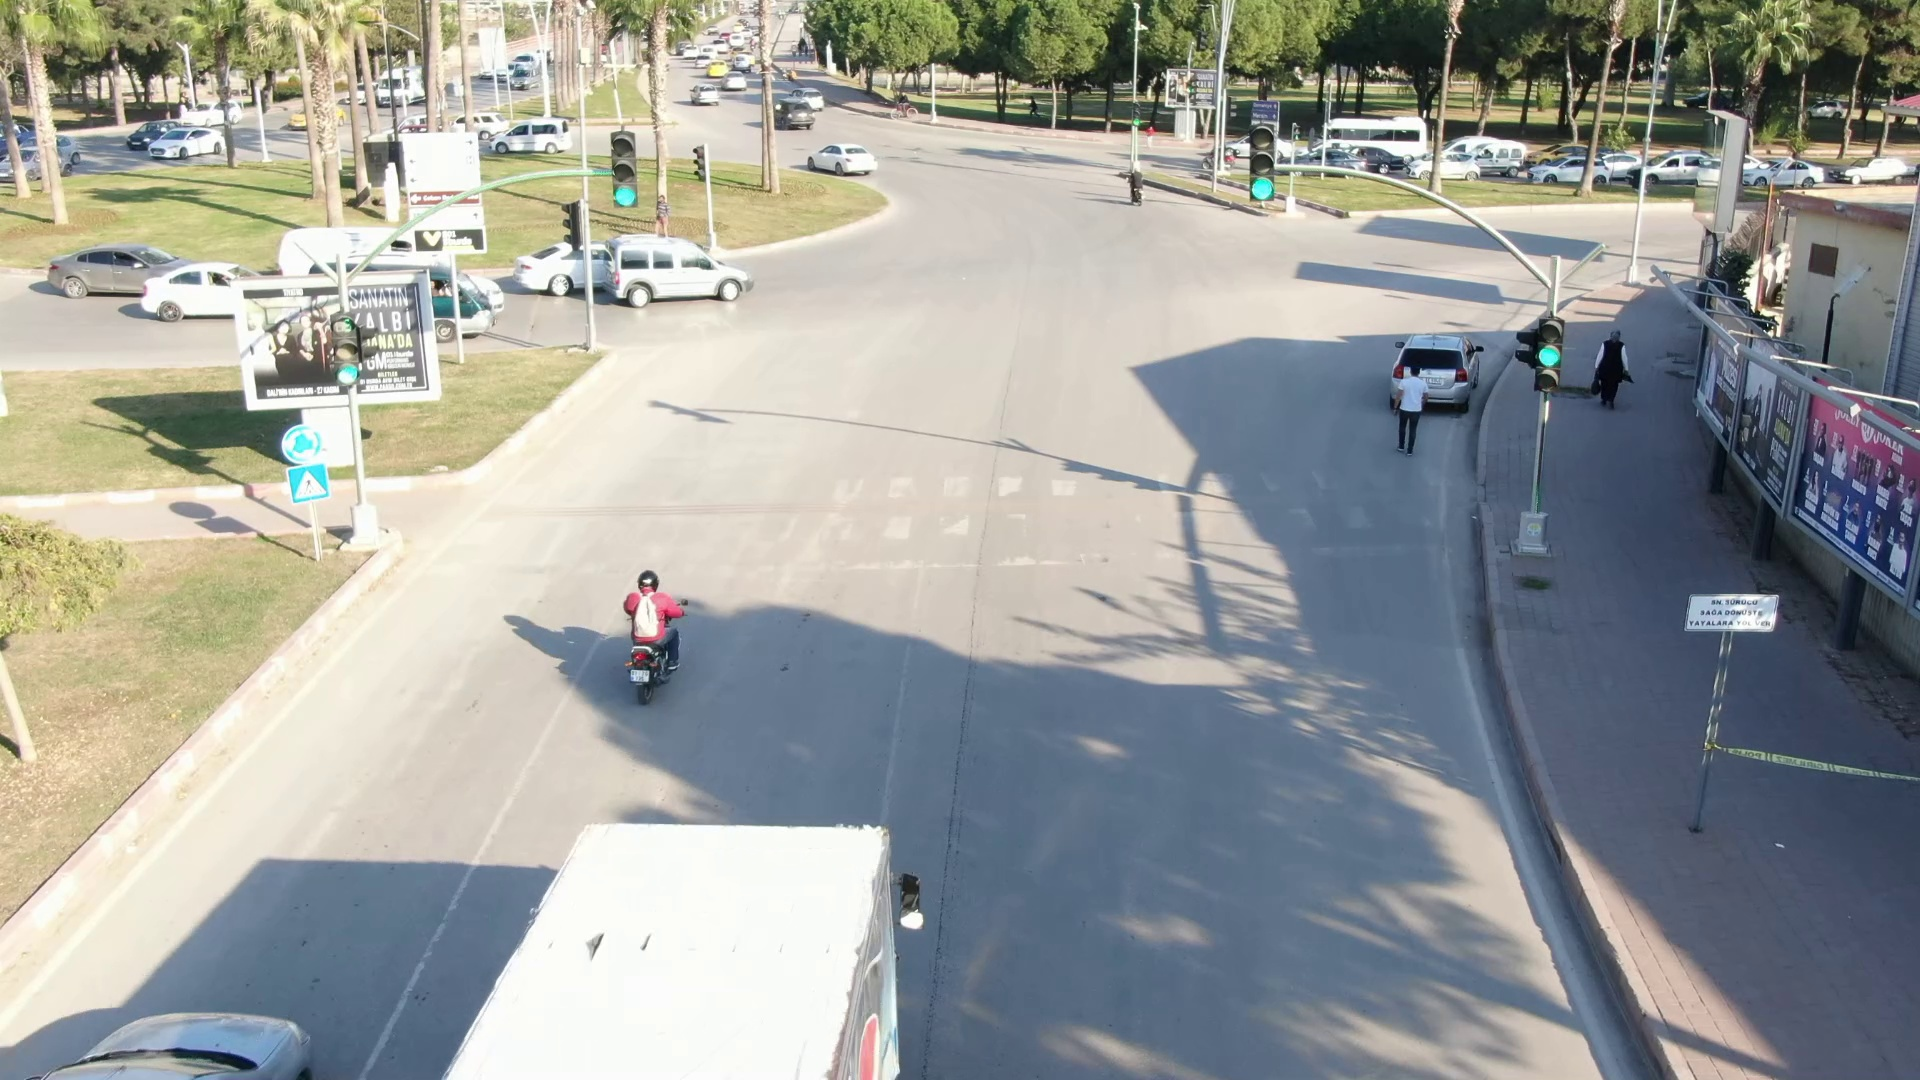car: (44, 228, 216, 316), (596, 231, 766, 318), (803, 136, 885, 184), (484, 116, 577, 158), (147, 125, 236, 163), (766, 88, 826, 132), (682, 79, 727, 108)
person: (612, 556, 704, 676), (1390, 359, 1437, 460), (1583, 324, 1637, 412)
